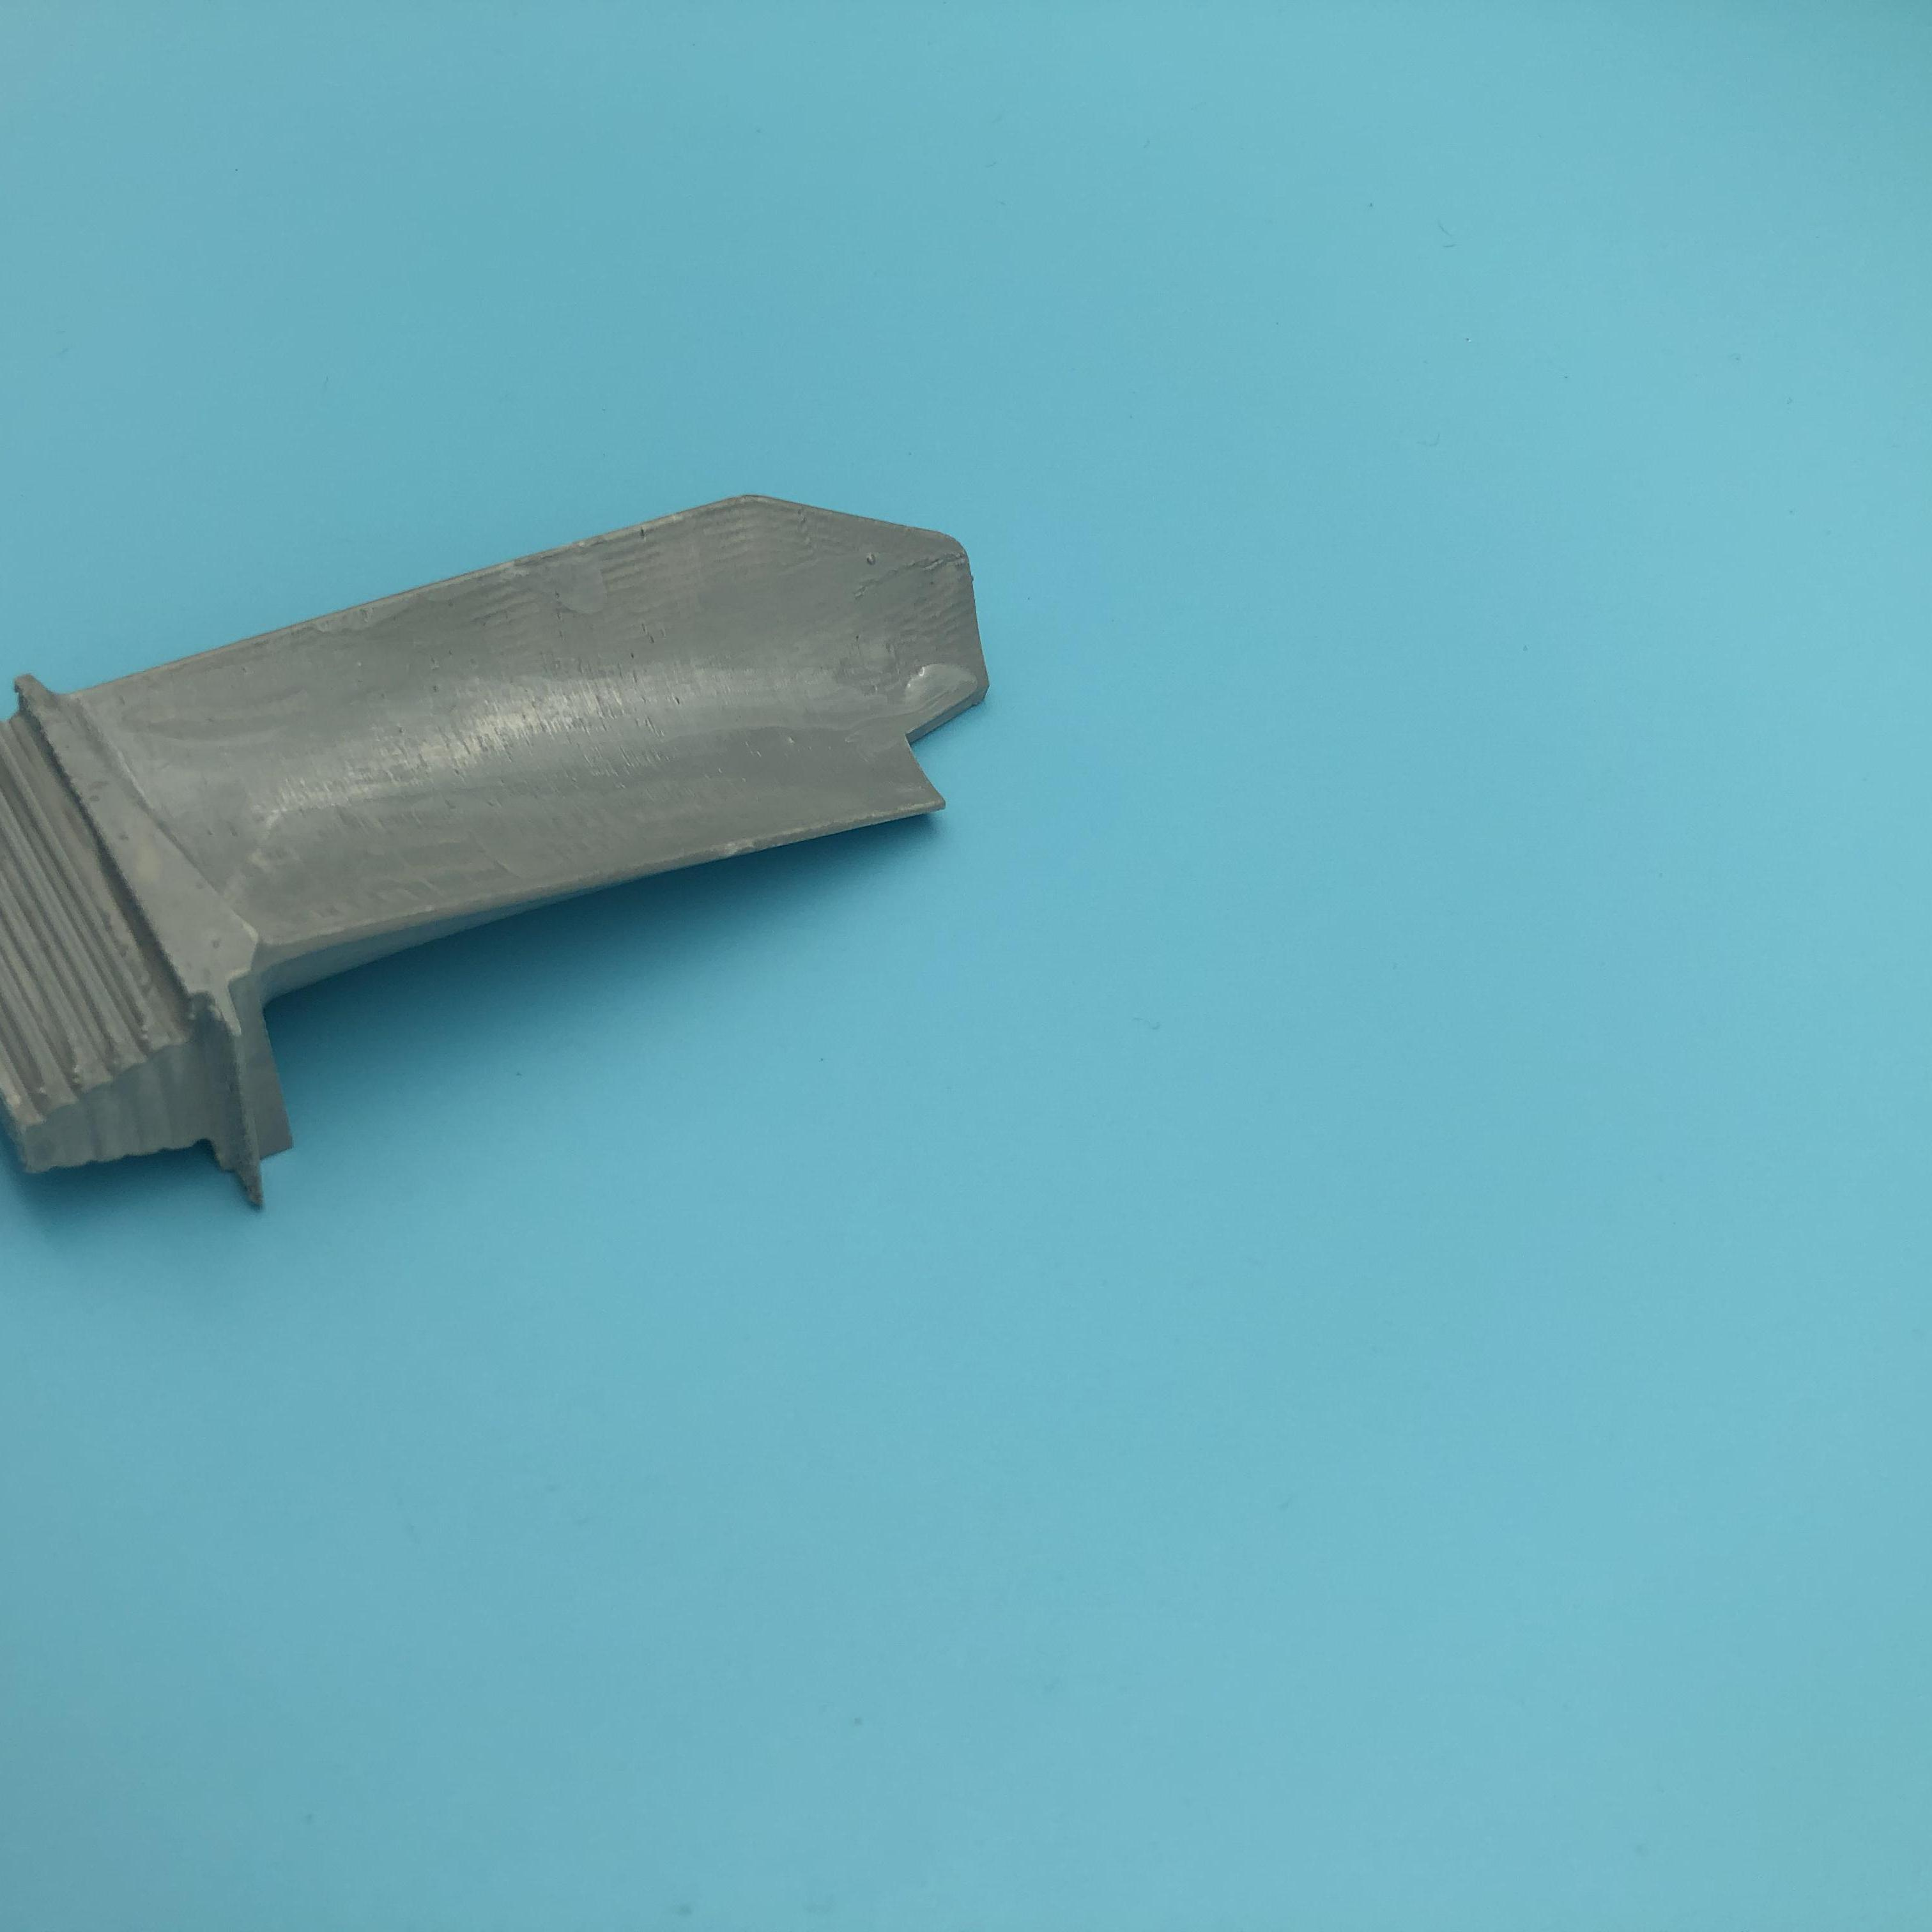fracture: (904, 676, 996, 824)
